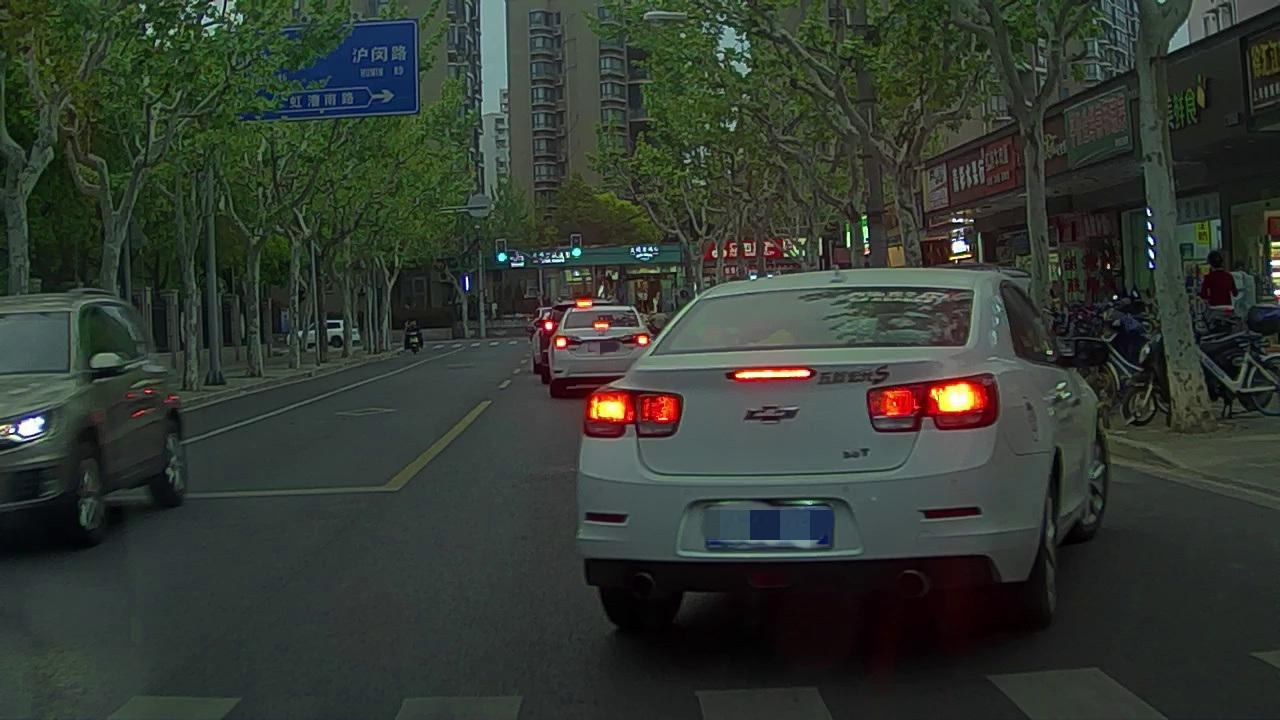traffic_light: (496, 238, 507, 265), (572, 234, 582, 260)
